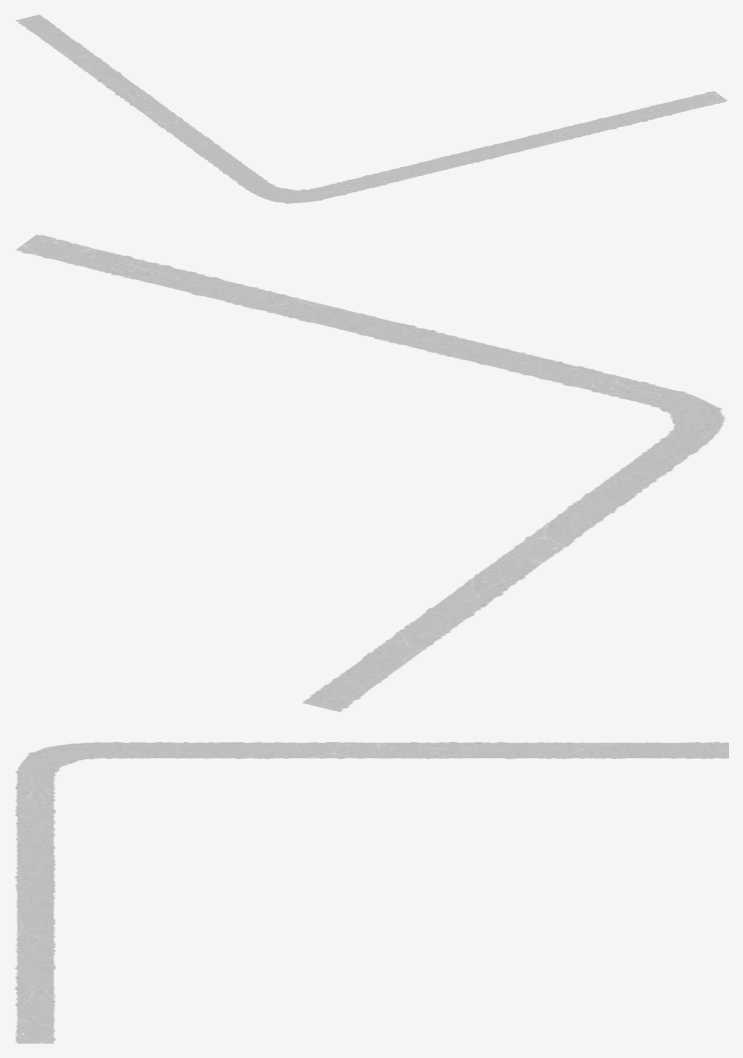
The model's file is Sidewalk_Corner_Flat_3m_Stripe.glb.
3 views of the same model, one above another, from view 1: azimuth 30°, elevation 25°; view 2: azimuth 150°, elevation 25°; view 3: azimuth 270°, elevation 25° (orthographic). The views are drawn at different scales.
Parts seen in each view (by area): view 1: Sidewalk_Corner_Flat_3m_Stripe; view 2: Sidewalk_Corner_Flat_3m_Stripe; view 3: Sidewalk_Corner_Flat_3m_Stripe.
Boxes of the visible parts, <box> form: Sidewalk_Corner_Flat_3m_Stripe: <box>16,14,727,203</box>; Sidewalk_Corner_Flat_3m_Stripe: <box>16,235,724,711</box>; Sidewalk_Corner_Flat_3m_Stripe: <box>15,742,728,1043</box>.
Size of the model in its own units: 3.4 by 0 by 3.4.
Materials: 1 (1 with a texture image).
